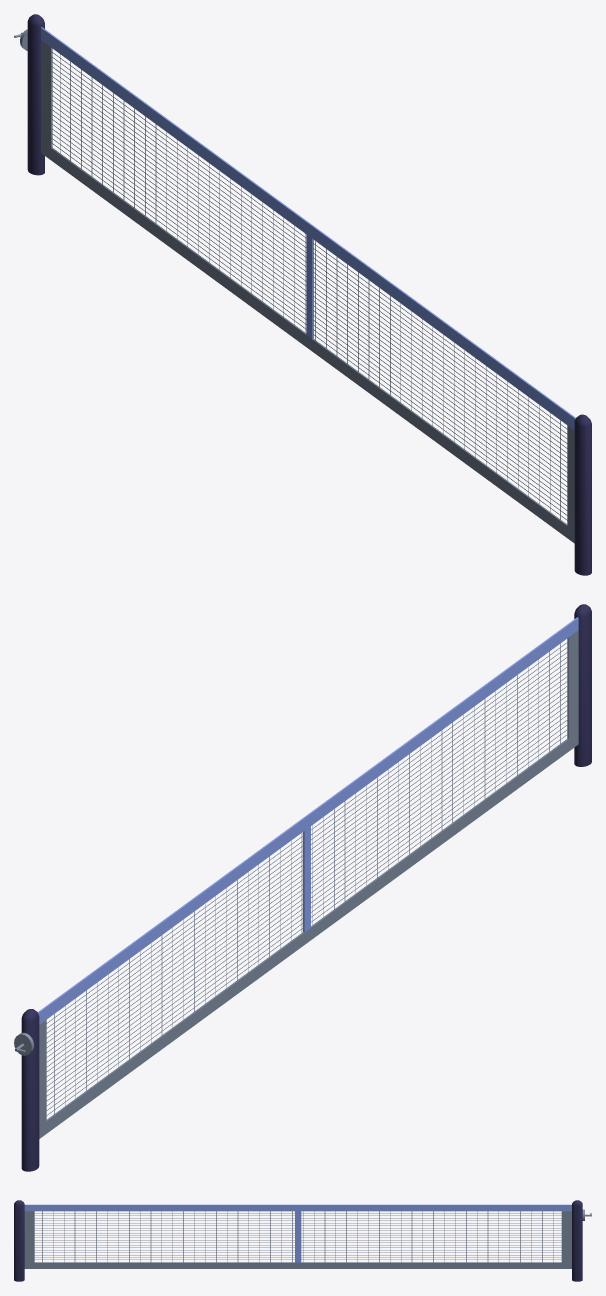
Rendered from court.glb.
The picture shows the model from 3 angles, top to bottom: view 1: azimuth 30°, elevation 25°; view 2: azimuth 150°, elevation 25°; view 3: azimuth 270°, elevation 25°; orthographic projection. The views are drawn at different scales.
Parts seen in each view (by area): view 1: Net; view 2: Net; view 3: Net.
Boxes of the visible parts, box(x1,y1,x2,y2) form: Net: box(14, 14, 591, 575); Net: box(14, 604, 591, 1171); Net: box(14, 1200, 591, 1281).
Size of the model in its own units: 0.115 by 0.969 by 6.36.
